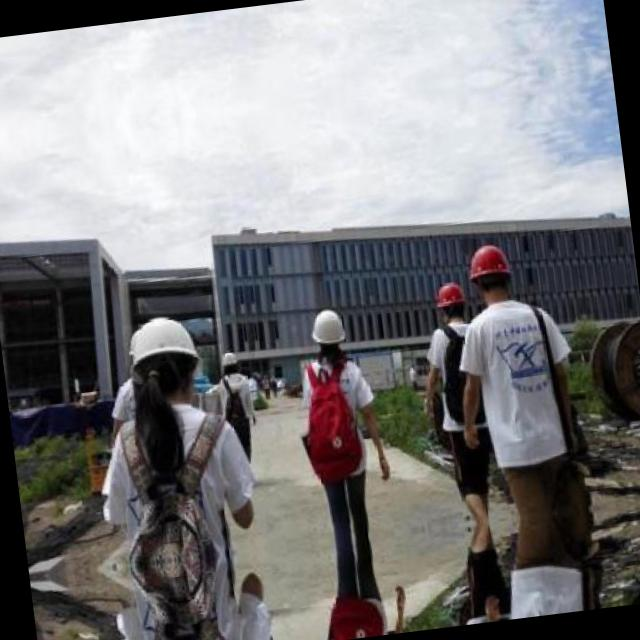helmet: (122, 306, 208, 406), (462, 240, 516, 306), (302, 304, 348, 360), (430, 274, 469, 324), (216, 345, 241, 376)
